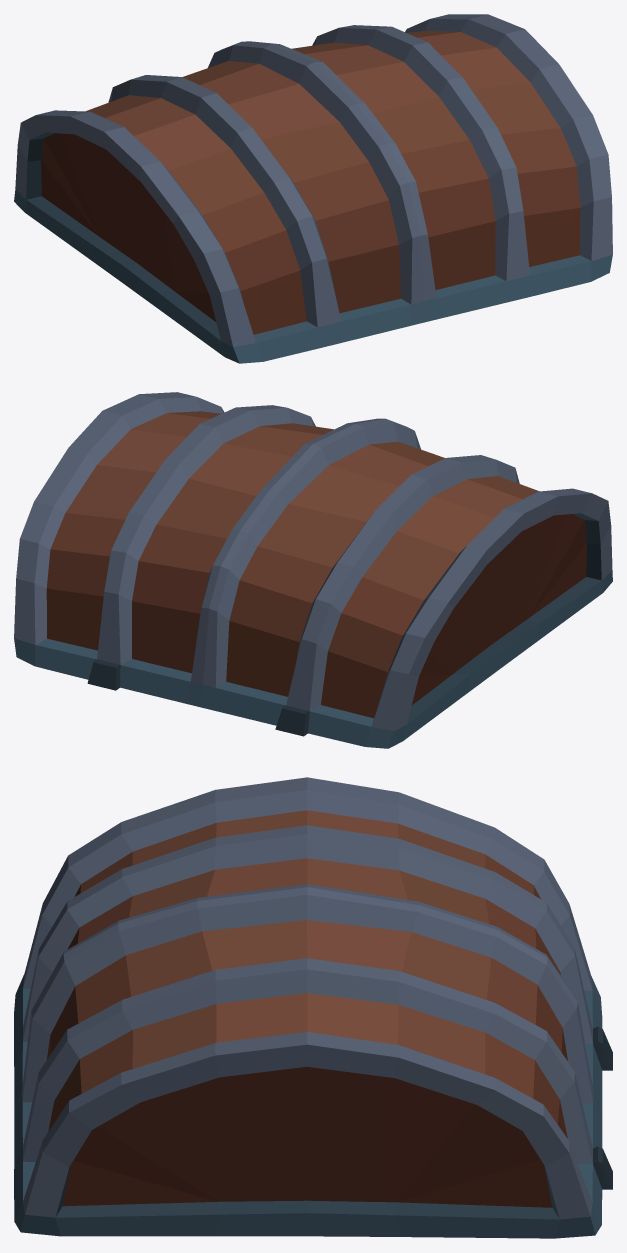
The model's file is ChestTop.fbx.
3 views of the same model, one above another, from view 1: azimuth 30°, elevation 25°; view 2: azimuth 150°, elevation 25°; view 3: azimuth 270°, elevation 25° (orthographic). The views are drawn at different scales.
Parts seen in each view (by area): view 1: ChestTop; view 2: ChestTop; view 3: ChestTop.
Boxes of the visible parts, box(x1,y1,x2,y2) form: ChestTop: box(14, 14, 612, 363); ChestTop: box(14, 392, 612, 748); ChestTop: box(14, 777, 612, 1238).
Size of the model in its own units: 82.1 by 33.87 by 77.76.
